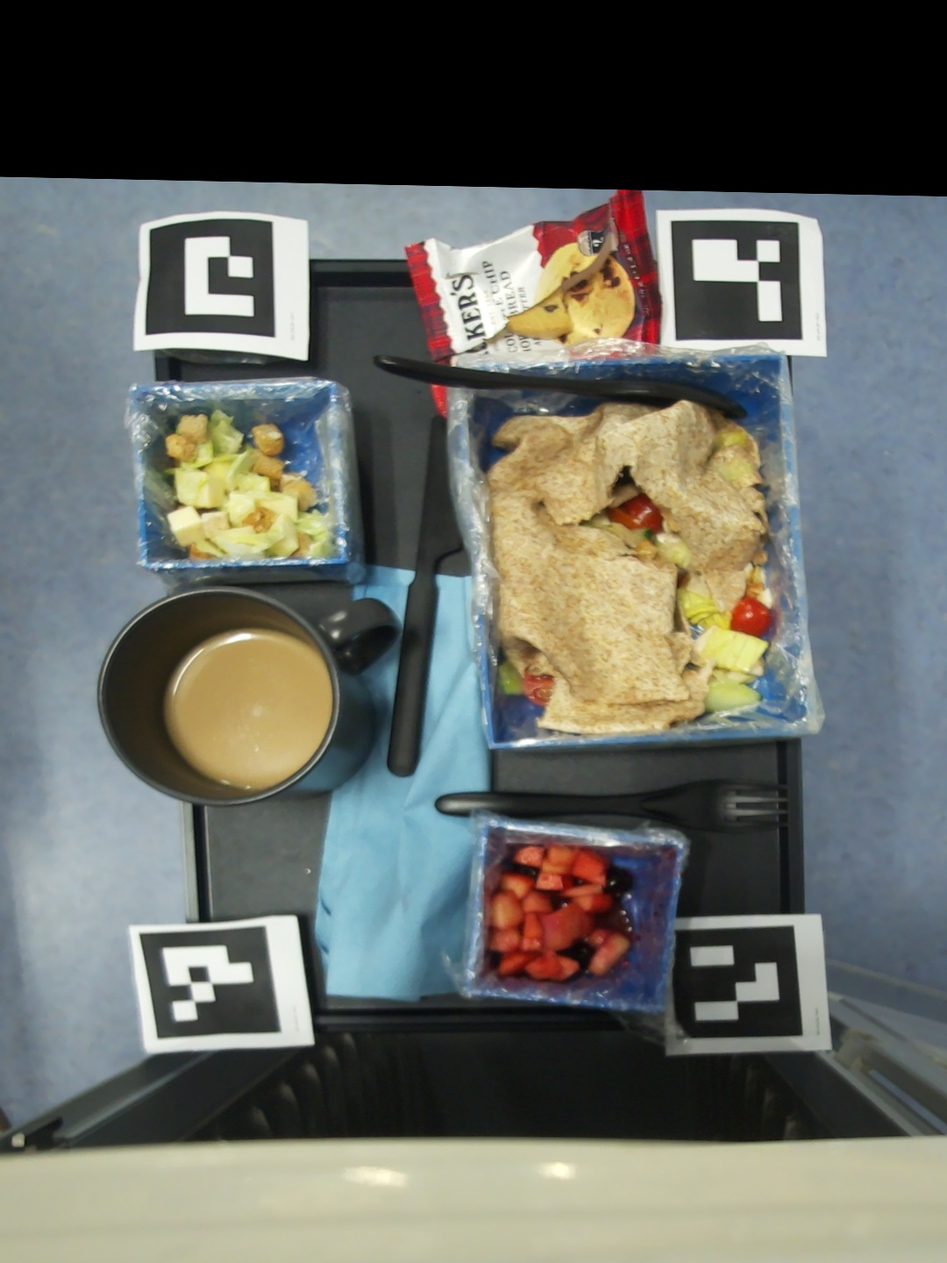coffee_cup: (97, 589, 401, 806)
cookie: (404, 189, 662, 419)
fruit_salad: (484, 842, 633, 981)
side_salad: (162, 410, 342, 560)
wrap_half_1: (487, 400, 766, 734)
wrap_half_2: (685, 406, 774, 711)
